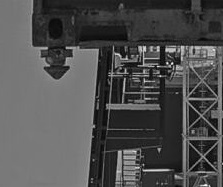twist_lock_2: (32, 41, 78, 84)
